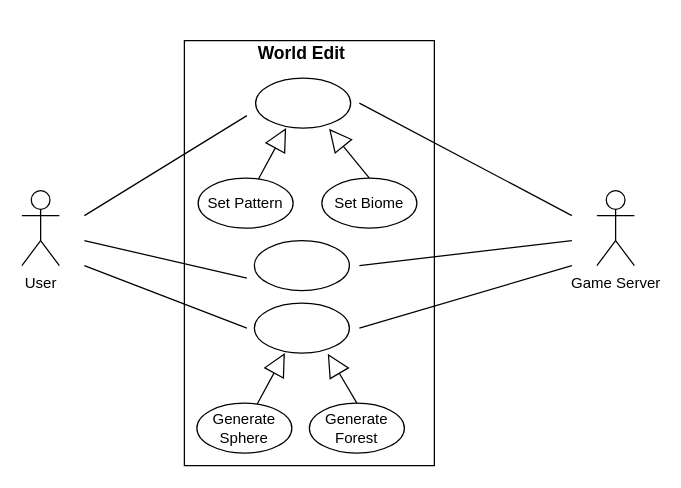
Image size: 681x488. Some labels were removed from this diagram. Here are the shapes that lost their labels. From the top down, the centre of each, then its label:
At pixel 302 102: "Set".
At pixel 301 265: "Naturalize Region".
At pixel 301 327: "Generate".
